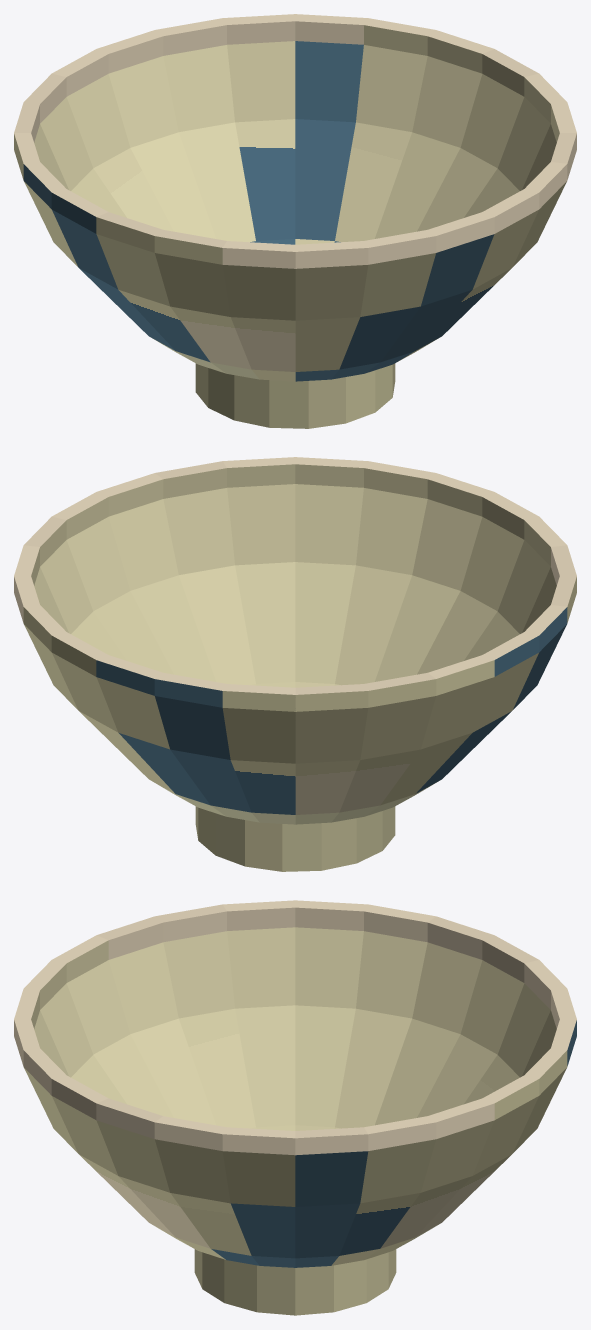
The model's file is vessel-imari.glb.
3 views of the same model, one above another, from view 1: azimuth 30°, elevation 25°; view 2: azimuth 150°, elevation 25°; view 3: azimuth 270°, elevation 25° (orthographic).
Visible parts, largest first — view 1: vessel-imari/complete-inner-outer-shell-with-drainage, vessel-imari/complete-open-foot-ring; view 2: vessel-imari/complete-inner-outer-shell-with-drainage, vessel-imari/complete-open-foot-ring; view 3: vessel-imari/complete-inner-outer-shell-with-drainage, vessel-imari/complete-open-foot-ring.
Boxes of the visible parts, box(x1,y1,x2,y2) form: vessel-imari/complete-inner-outer-shell-with-drainage: box(14, 14, 576, 381); vessel-imari/complete-open-foot-ring: box(195, 363, 395, 428); vessel-imari/complete-inner-outer-shell-with-drainage: box(14, 457, 576, 824); vessel-imari/complete-open-foot-ring: box(195, 806, 395, 871); vessel-imari/complete-inner-outer-shell-with-drainage: box(14, 900, 576, 1267); vessel-imari/complete-open-foot-ring: box(194, 1249, 396, 1315).
Size of the model in its own units: 0.362 by 0.18 by 0.362.
1 material, 1 textured.
